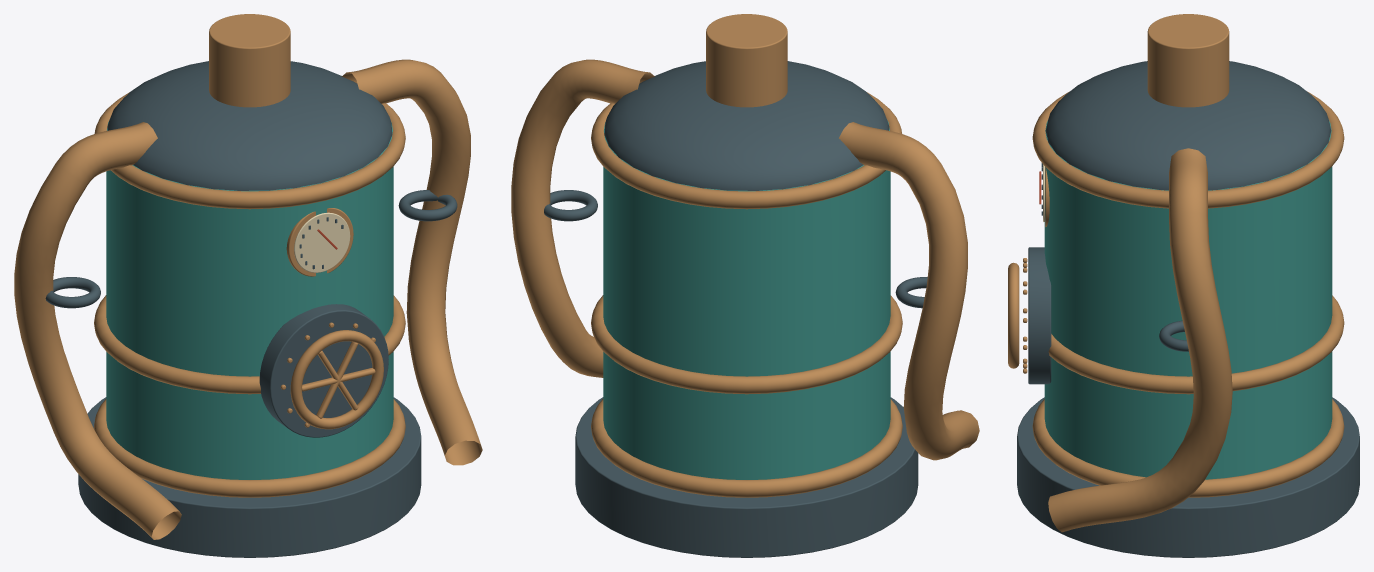
The model's file is Boiler.fbx.
3 renders of one model, left to right at view 1: azimuth 30°, elevation 25°; view 2: azimuth 150°, elevation 25°; view 3: azimuth 270°, elevation 25°, orthographic.
Parts seen in each view (by area): view 1: Boiler; view 2: Boiler; view 3: Boiler.
Part boxes in pixels (x1=…): Boiler: x1=14, y1=14, x2=482, y2=557; Boiler: x1=511, y1=14, x2=979, y2=557; Boiler: x1=1008, y1=14, x2=1359, y2=557.
Bounding box in the file's own units: 318 × 215 × 308.
